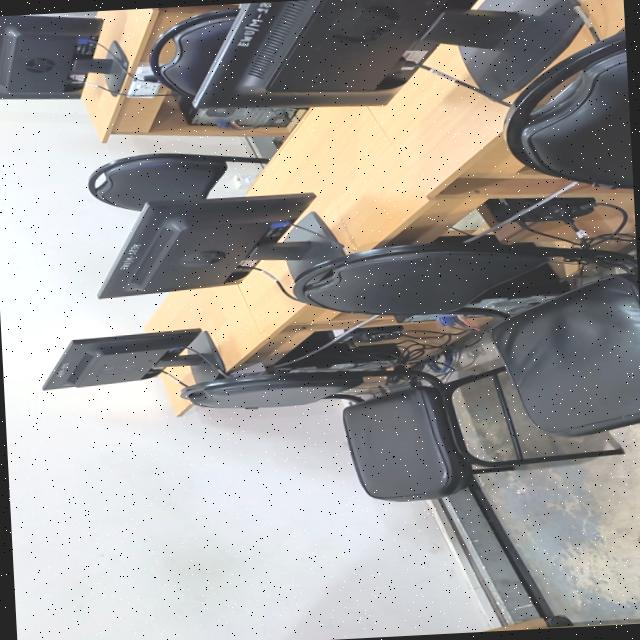Chair: (293, 235, 640, 437), (168, 366, 623, 502), (504, 30, 634, 189), (87, 153, 268, 211)
Cpu: (174, 95, 296, 131), (285, 343, 399, 368), (275, 332, 331, 364)
Monitor: (193, 0, 584, 108), (97, 194, 343, 299), (41, 329, 225, 390), (0, 15, 126, 100)
